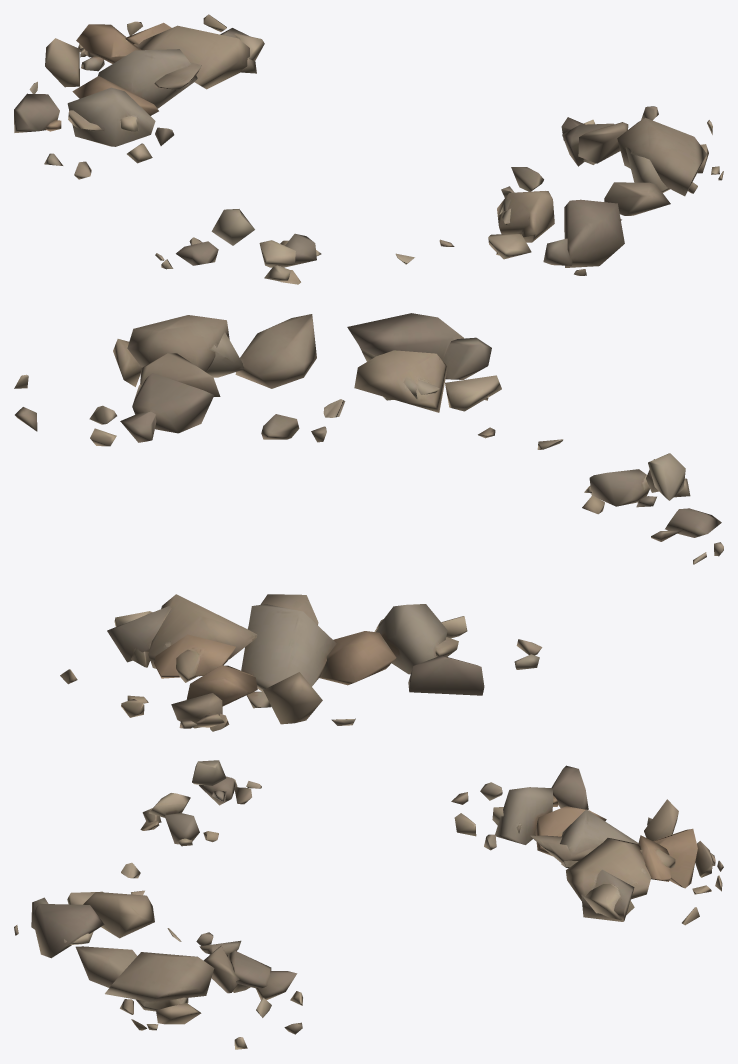
File: rough-cave-2.hq.glb
The picture shows the model from 3 angles, top to bottom: view 1: azimuth 30°, elevation 25°; view 2: azimuth 150°, elevation 25°; view 3: azimuth 270°, elevation 25°; orthographic projection. The views are drawn at different scales.
Parts seen in each view (by area): view 1: rough-cave-2; view 2: rough-cave-2; view 3: rough-cave-2.
Part boxes in pixels (box(x1,y1,x2,y2)): rough-cave-2: box(14, 14, 723, 284); rough-cave-2: box(14, 313, 723, 731); rough-cave-2: box(14, 760, 723, 1049).
Size of the model in its own units: 1.44 by 0.1623 by 1.63.
Materials: 1 (1 with a texture image).
